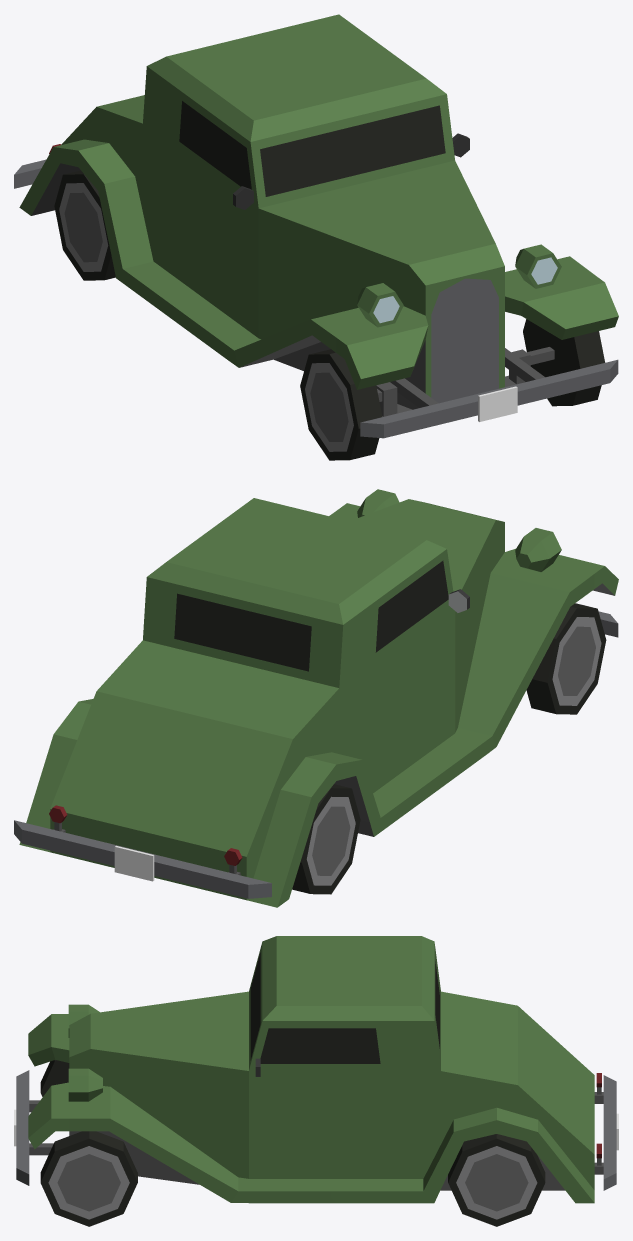
File: Veh_Retro_Car_02_Green.glb
The picture shows the model from 3 angles, top to bottom: view 1: azimuth 30°, elevation 25°; view 2: azimuth 150°, elevation 25°; view 3: azimuth 270°, elevation 25°; orthographic projection. The views are drawn at different scales.
Parts seen in each view (by area): view 1: Retro_Car_02_Green, Wheel_FR, Wheel_RR, Wheel_FL; view 2: Retro_Car_02_Green, Wheel_FR, Wheel_RR; view 3: Retro_Car_02_Green, Wheel_FL, Wheel_RL, Wheel_FR.
Boxes of the visible parts, x1=… form: Retro_Car_02_Green: x1=14, y1=14, x2=618, y2=438; Wheel_FR: x1=300, y1=349, x2=382, y2=460; Wheel_RR: x1=54, y1=170, x2=115, y2=280; Wheel_FL: x1=523, y1=319, x2=604, y2=406; Retro_Car_02_Green: x1=14, y1=489, x2=618, y2=907; Wheel_FR: x1=526, y1=603, x2=606, y2=714; Wheel_RR: x1=292, y1=784, x2=360, y2=894; Retro_Car_02_Green: x1=14, y1=936, x2=618, y2=1203; Wheel_FL: x1=40, y1=1131, x2=137, y2=1226; Wheel_RL: x1=448, y1=1134, x2=545, y2=1226; Wheel_FR: x1=40, y1=1060, x2=69, y2=1096.
Size of the model in its own units: 0.9825 by 0.8995 by 2.4.
1 material, 1 textured.
